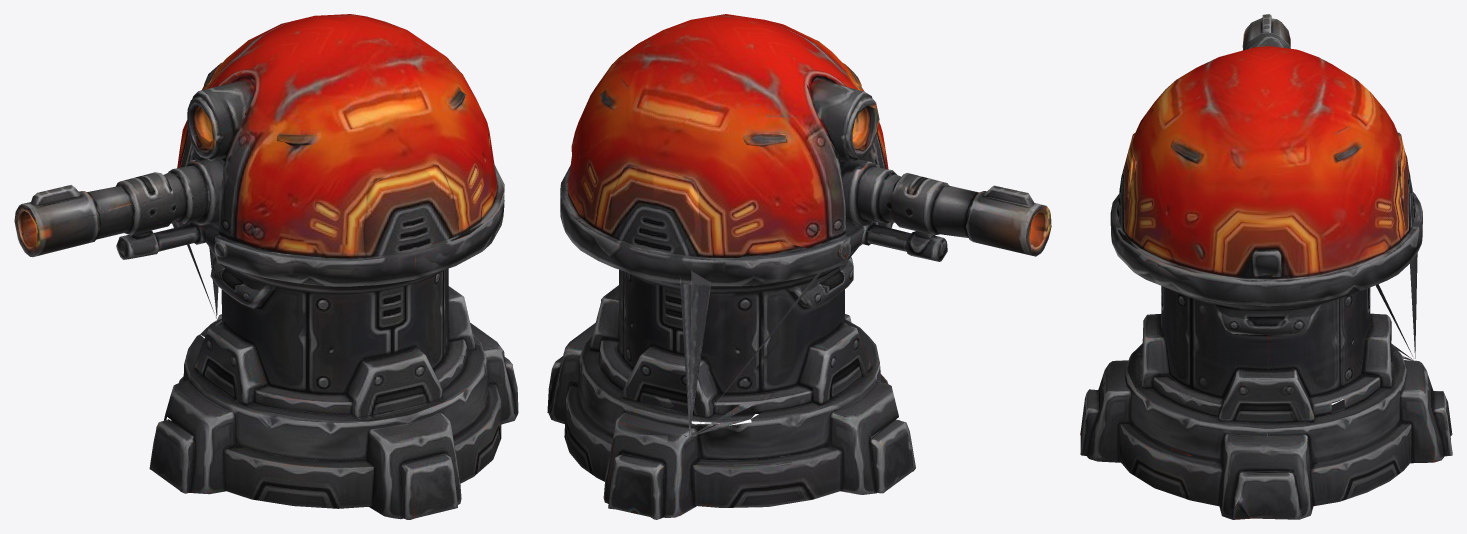
File: turret.glb
3 renders of one model, left to right at view 1: azimuth 30°, elevation 25°; view 2: azimuth 150°, elevation 25°; view 3: azimuth 270°, elevation 25°, orthographic. The views are drawn at different scales.
Bounding box in the file's own units: 1 × 0.838 × 0.7337.
Materials: 1 (1 with a texture image).
